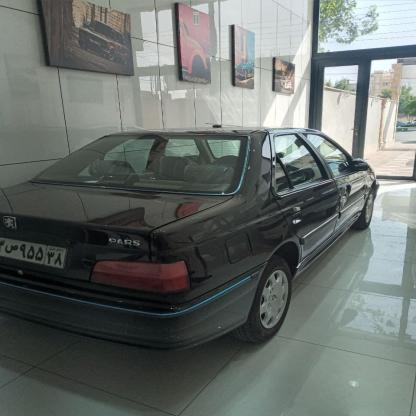Car: (0, 126, 410, 346)
